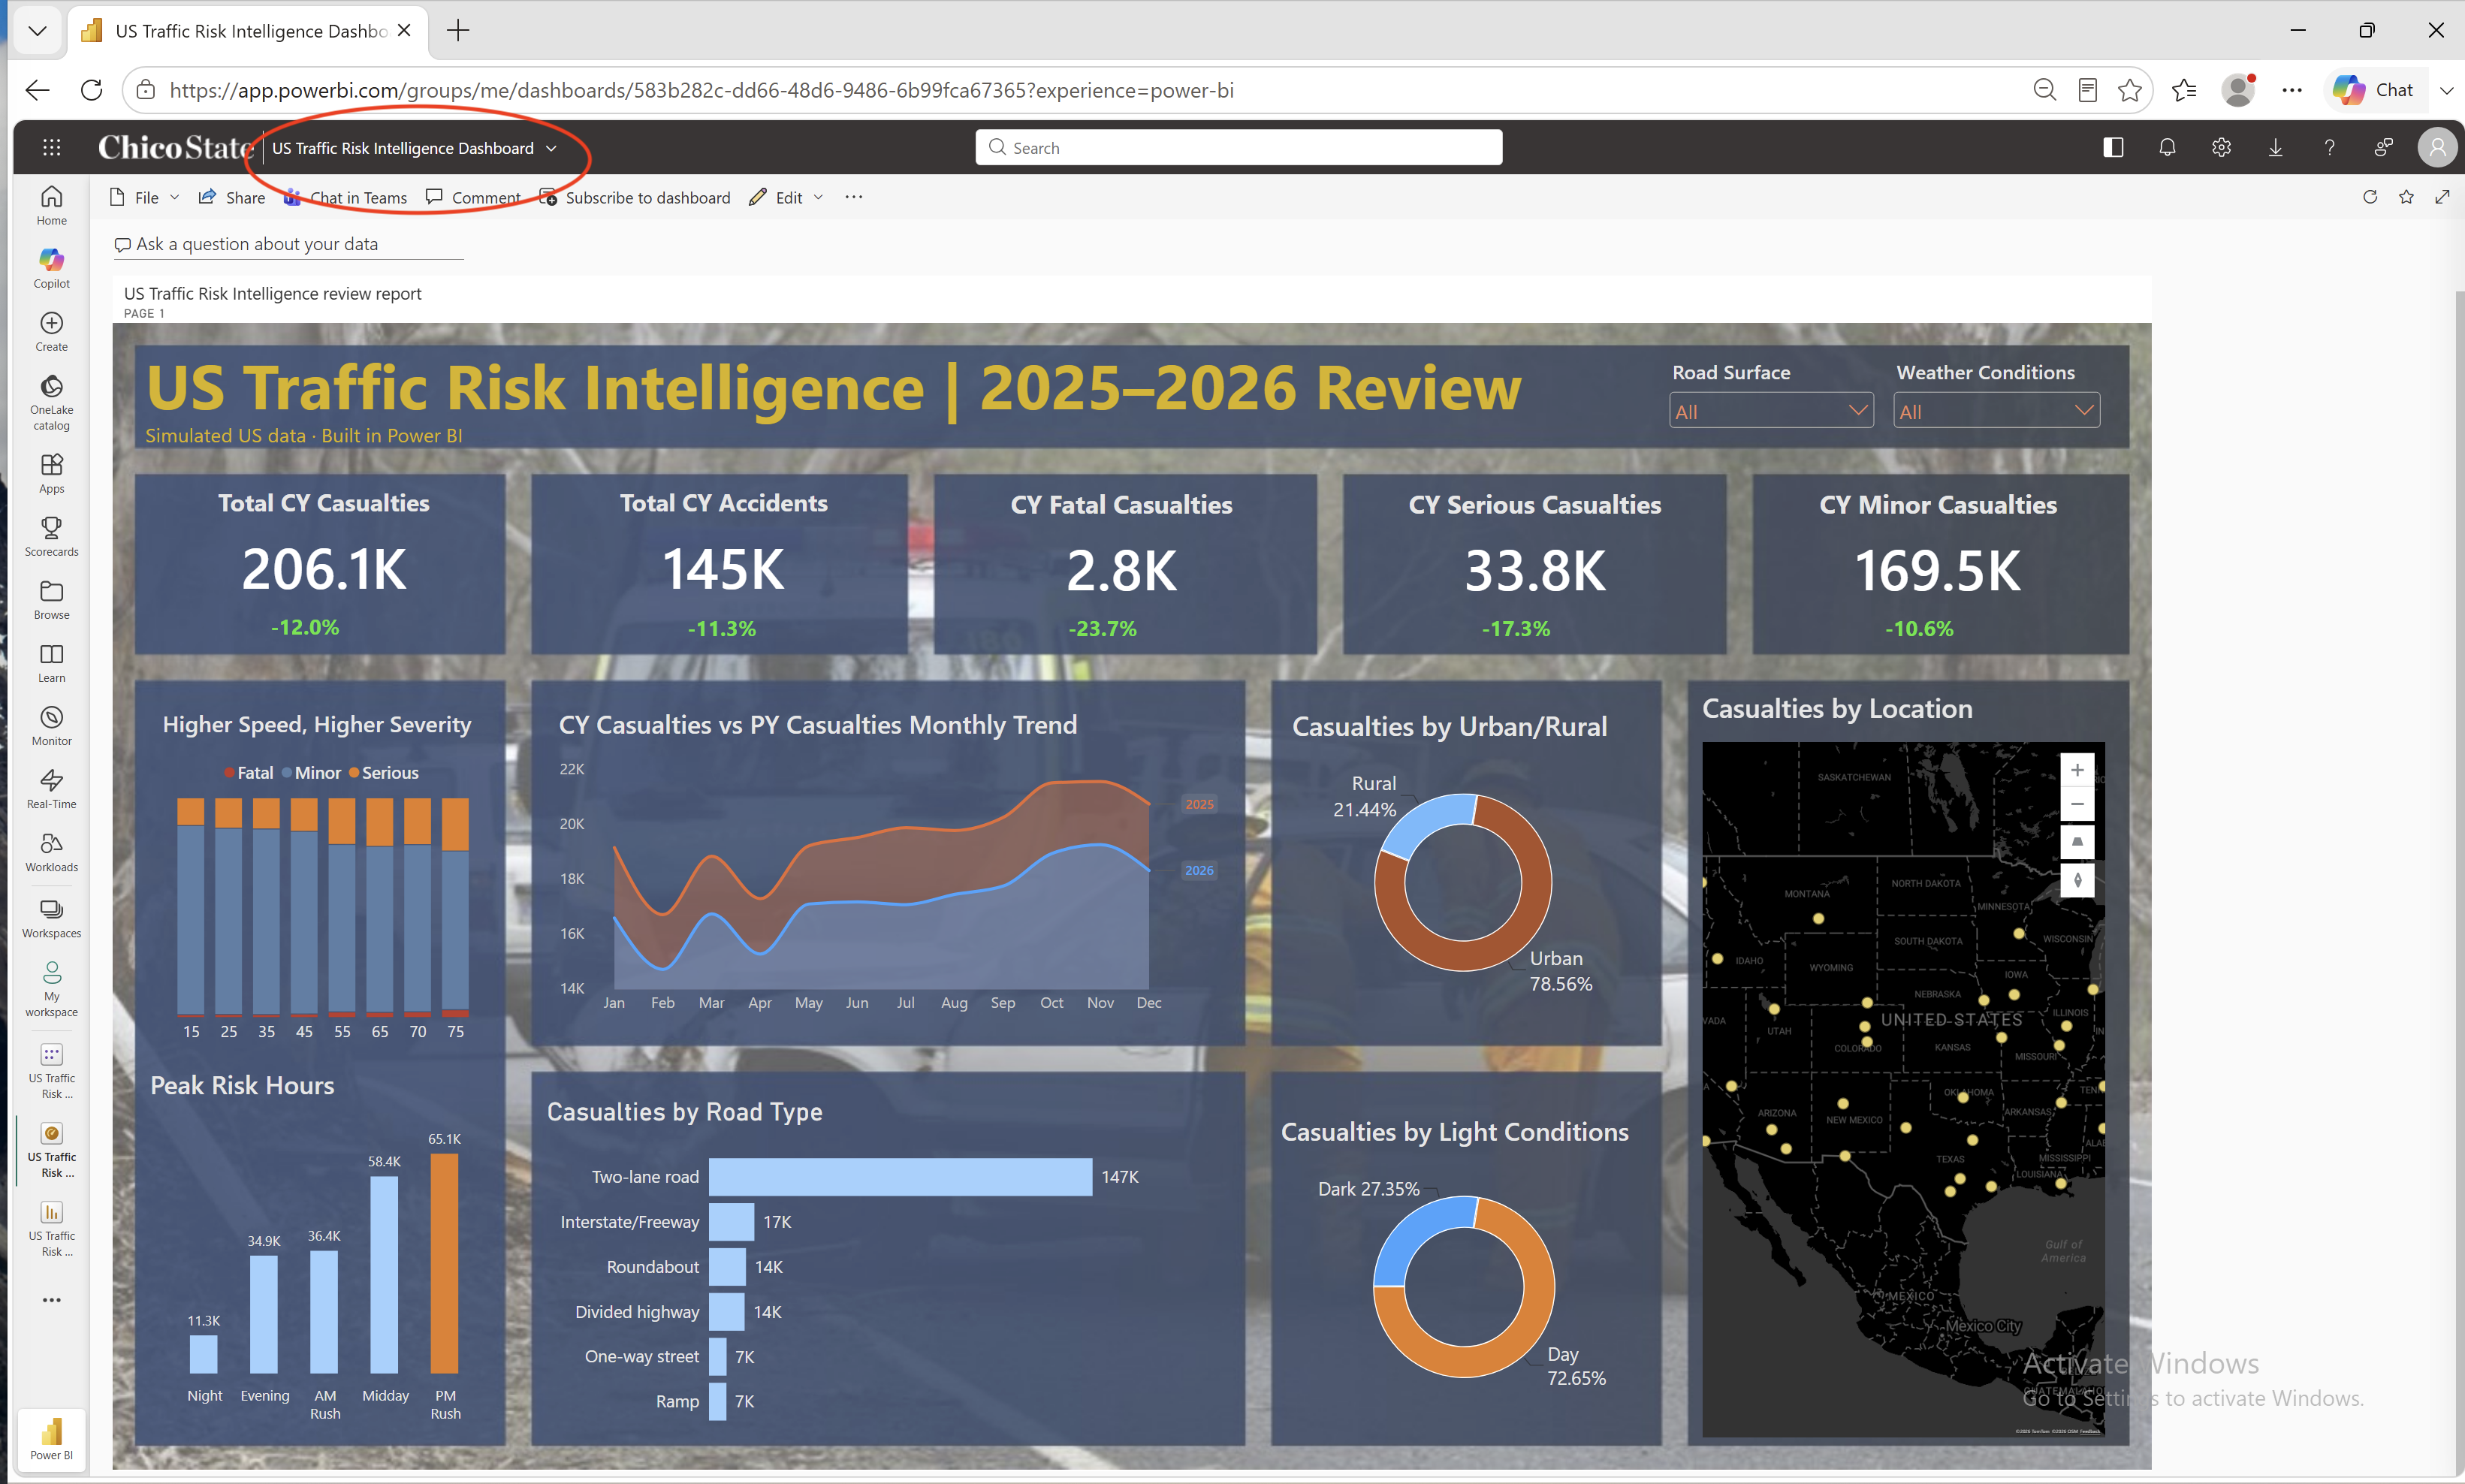

The page's visual inventory and layout, read from the dashboard file:
{"tool":"powerbi","page":{"name":"Page 1","canvas":[1920,1080],"ordinal":0},"visuals":[{"type":"cardVisual","title":"Total CY Casualties","fields":{"Data":["Data.CY Casualties"]},"box":[41.5,152.7,315.3,104.5],"z":0,"group":"g1"},{"type":"group","id":"g1","title":"Group 1","box":[41.5,152.7,315.3,161],"z":0},{"type":"cardVisual","title":"Total CY Accidents","fields":{"Data":["Data.CY Accident Count"]},"box":[418.2,152.7,315.3,104.5],"z":0,"group":"g2"},{"type":"cardVisual","title":" CY Fatal Casualties","fields":{"Data":["Data.CY Casualties"]},"box":[792.6,153.3,315.3,104.5],"z":0,"group":"g3"},{"type":"cardVisual","title":" CY Serious Casualties","fields":{"Data":["Data.CY Casualties"]},"box":[1181.4,153.3,315.3,104.5],"z":0,"group":"g4"},{"type":"cardVisual","title":" CY Minor Casualties","fields":{"Data":["Data.CY Casualties"]},"box":[1561.5,153.3,315.3,104.5],"z":0,"group":"g5"},{"type":"group","id":"g2","title":"Group 1","box":[418.2,152.7,315.3,162.3],"z":1000},{"type":"cardVisual","fields":{"Data":["Data.YOY casualties"]},"box":[132.8,257.2,109.5,56.4],"z":1000,"group":"g1"},{"type":"cardVisual","fields":{"Data":["Data.YOY casualties"]},"box":[883.9,257.8,109.5,56.4],"z":1000,"group":"g3"},{"type":"cardVisual","fields":{"Data":["Data.YOY casualties"]},"box":[1272.7,257.8,109.5,56.4],"z":1000,"group":"g4"},{"type":"cardVisual","fields":{"Data":["Data.YOY casualties"]},"box":[1652.8,257.8,109.5,56.4],"z":1000,"group":"g5"},{"type":"cardVisual","fields":{"Data":["Data.YOY Accidents"]},"box":[525,258.7,110.8,56.3],"z":1000,"group":"g2"},{"type":"group","id":"g3","title":"Group 1","box":[792.6,153.3,315.3,159.8],"z":2000},{"type":"group","id":"g4","title":"Group 1","box":[1181.4,153.3,315.3,159.8],"z":3000},{"type":"group","id":"g5","title":"Group 1","box":[1561.5,153.3,315.3,159.8],"z":4000},{"type":"textbox","box":[30.9,18.3,1620.9,86],"z":5000},{"type":"areaChart","title":"CY Casualties vs PY Casualties Monthly Trend","fields":{"Category":["Calendar.Month"],"Series":["Calendar.Date.Variation.Date Hierarchy.Year"],"Y":["Sum(Data.Number_of_Casualties)"]},"box":[403.6,347.3,652.7,323.6],"z":7000},{"type":"donutChart","title":"Casualties by Urban/Rural","fields":{"Category":["Data.Urban_or_Rural_Area"],"Y":["Data.CY Casualties"]},"box":[1095.1,347.5,354.1,309.8],"z":8000},{"type":"donutChart","title":"Casualties by Light Conditions","fields":{"Category":["Data.Light_Conditions (groups)"],"Y":["Data.CY Casualties"]},"box":[1083.6,729.5,377,309.8],"z":9000},{"type":"barChart","title":"Casualties by Road Type","fields":{"Category":["Data.Road_Type"],"Y":["Data.CY Casualties"]},"box":[403.8,716.2,652.5,337.7],"z":10000},{"type":"azureMap","title":"Casualties by Location","fields":{"Category":["Data.Local_Authority_(District)"],"X":["Data.Longitude"],"Y":["Data.Latitude"]},"box":[1480.3,331.1,411.5,734.4],"z":11000},{"type":"slicer","fields":{"Values":["Data.Weather_Conditions (groups)"]},"box":[1672.1,32.8,204.9,72.1],"z":12000},{"type":"slicer","fields":{"Values":["Data.Road_Surface_Conditions (groups)"]},"box":[1460.7,32.8,203.3,75.4],"z":12001},{"type":"hundredPercentStackedColumnChart","title":"Higher Speed, Higher Severity","fields":{"Category":["Data.Speed_limit"],"Series":["Data.Accident_Severity"],"Y":["Data.CY Casualties"]},"box":[30.5,347.5,335.6,350.8],"z":12002},{"type":"clusteredColumnChart","title":"Peak Risk Hours","fields":{"Category":["Data.Time Band"],"Y":["Data.CY Casualties"]},"box":[18.6,686.4,347.5,367.8],"z":12003},{"type":"textbox","box":[30.9,92.8,306.6,30.9],"z":12004}]}

Visuals, with their boxes on the page's 1920x1080 design canvas (x1, y1, x2, y2). These are canvas units, not pixel positions in the 2465x1484 screenshot, which may show the page scaled, cropped or inside an application window:
"Total CY Casualties" cardVisual: {"left": 42, "top": 153, "right": 357, "bottom": 257}
"Group 1" group: {"left": 42, "top": 153, "right": 357, "bottom": 314}
"Total CY Accidents" cardVisual: {"left": 418, "top": 153, "right": 734, "bottom": 257}
" CY Fatal Casualties" cardVisual: {"left": 793, "top": 153, "right": 1108, "bottom": 258}
" CY Serious Casualties" cardVisual: {"left": 1181, "top": 153, "right": 1497, "bottom": 258}
" CY Minor Casualties" cardVisual: {"left": 1562, "top": 153, "right": 1877, "bottom": 258}
"Group 1" group: {"left": 418, "top": 153, "right": 734, "bottom": 315}
cardVisual - Data.YOY casualties: {"left": 133, "top": 257, "right": 242, "bottom": 314}
cardVisual - Data.YOY casualties: {"left": 884, "top": 258, "right": 993, "bottom": 314}
cardVisual - Data.YOY casualties: {"left": 1273, "top": 258, "right": 1382, "bottom": 314}
cardVisual - Data.YOY casualties: {"left": 1653, "top": 258, "right": 1762, "bottom": 314}
cardVisual - Data.YOY Accidents: {"left": 525, "top": 259, "right": 636, "bottom": 315}
"Group 1" group: {"left": 793, "top": 153, "right": 1108, "bottom": 313}
"Group 1" group: {"left": 1181, "top": 153, "right": 1497, "bottom": 313}
"Group 1" group: {"left": 1562, "top": 153, "right": 1877, "bottom": 313}
textbox: {"left": 31, "top": 18, "right": 1652, "bottom": 104}
"CY Casualties vs PY Casualties Monthly Trend" areaChart: {"left": 404, "top": 347, "right": 1056, "bottom": 671}
"Casualties by Urban/Rural" donutChart: {"left": 1095, "top": 348, "right": 1449, "bottom": 657}
"Casualties by Light Conditions" donutChart: {"left": 1084, "top": 730, "right": 1461, "bottom": 1039}
"Casualties by Road Type" barChart: {"left": 404, "top": 716, "right": 1056, "bottom": 1054}
"Casualties by Location" azureMap: {"left": 1480, "top": 331, "right": 1892, "bottom": 1066}
slicer - Data.Weather_Conditions (groups): {"left": 1672, "top": 33, "right": 1877, "bottom": 105}
slicer - Data.Road_Surface_Conditions (groups): {"left": 1461, "top": 33, "right": 1664, "bottom": 108}
"Higher Speed, Higher Severity" hundredPercentStackedColumnChart: {"left": 30, "top": 348, "right": 366, "bottom": 698}
"Peak Risk Hours" clusteredColumnChart: {"left": 19, "top": 686, "right": 366, "bottom": 1054}
textbox: {"left": 31, "top": 93, "right": 338, "bottom": 124}
